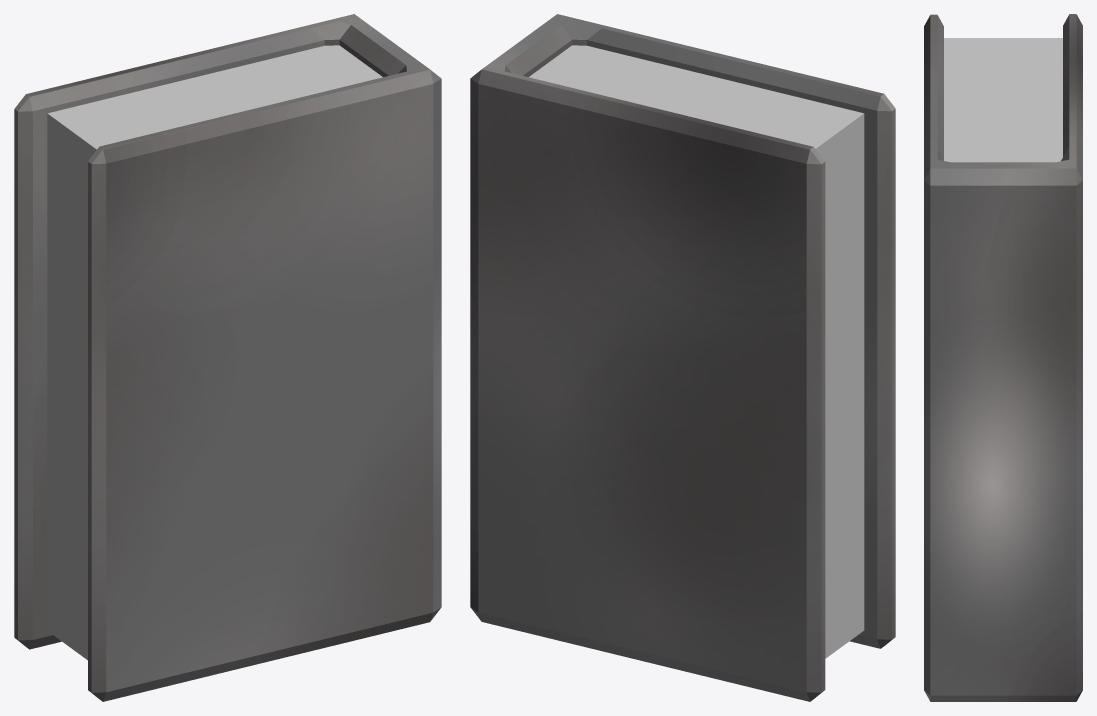
The model's file is jgs-book.glb.
3 renders of one model, left to right at view 1: azimuth 30°, elevation 25°; view 2: azimuth 150°, elevation 25°; view 3: azimuth 270°, elevation 25°, orthographic. The views are drawn at different scales.
Visible parts, largest first — view 1: Cube, Cube.001; view 2: Cube, Cube.001; view 3: Cube, Cube.001.
Boxes of the visible parts, bbox=[...] form: Cube: bbox=[14, 14, 441, 701]; Cube.001: bbox=[47, 45, 382, 660]; Cube: bbox=[470, 14, 895, 701]; Cube.001: bbox=[529, 45, 864, 658]; Cube: bbox=[924, 14, 1082, 701]; Cube.001: bbox=[944, 38, 1062, 162].
Bounding box in the file's own units: 0.3328 × 0.5 × 0.135.
2 materials, 2 textured.
